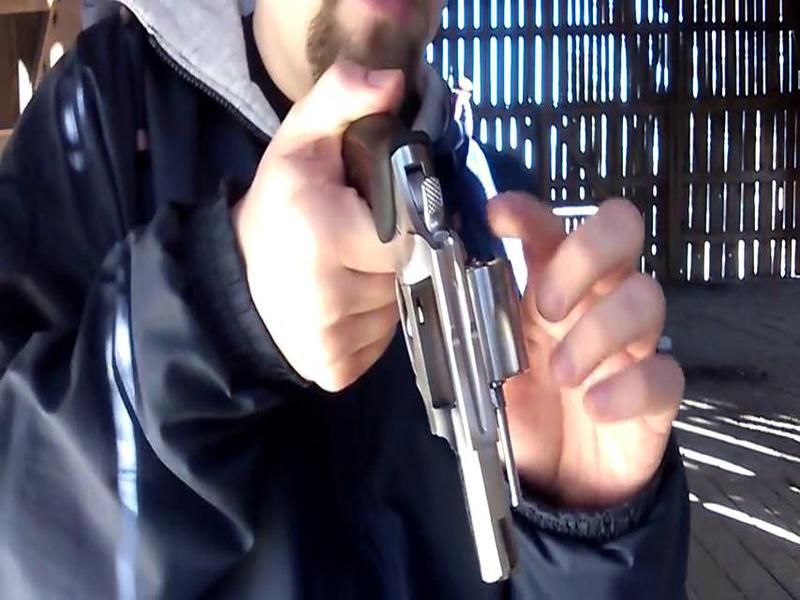Revolver: (353, 115, 549, 594)
